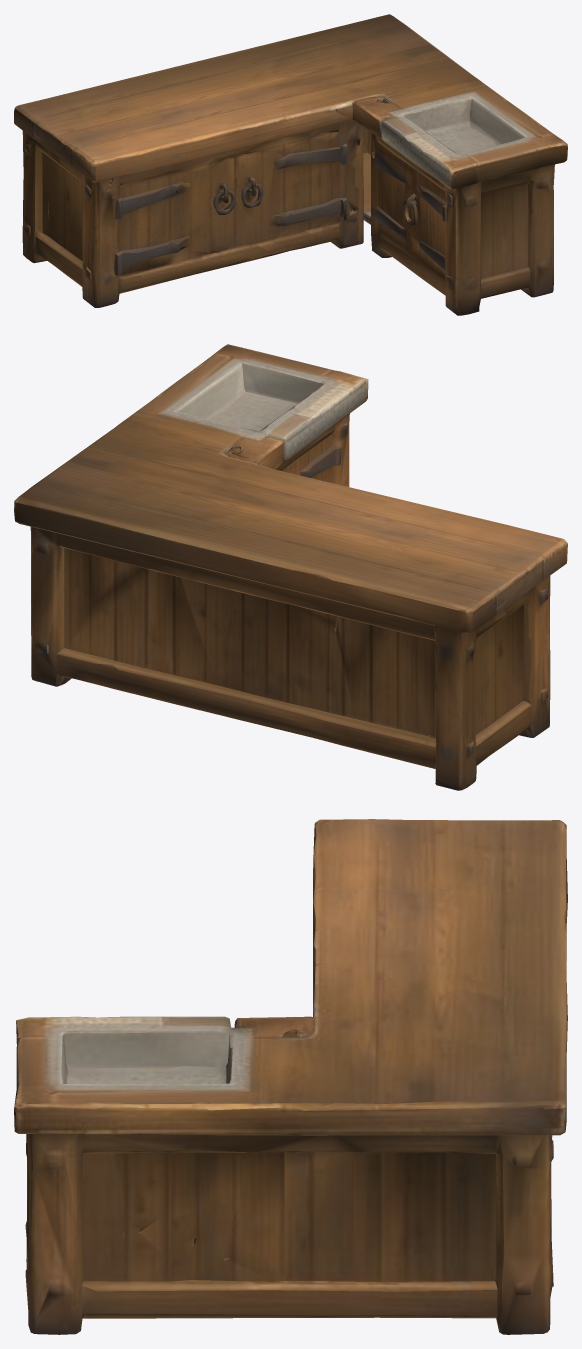
3 renders of one model, top to bottom at view 1: azimuth 30°, elevation 25°; view 2: azimuth 150°, elevation 25°; view 3: azimuth 270°, elevation 25°, orthographic. The views are drawn at different scales.
Visible parts, largest first — view 1: geometry_0; view 2: geometry_0; view 3: geometry_0.
Boxes of the visible parts, x1,y1,x2,y2 form: geometry_0: [14, 14, 567, 315]; geometry_0: [14, 344, 567, 790]; geometry_0: [14, 819, 567, 1334].
Size of the model in its own units: 2.4 by 0.9292 by 1.95.
Materials: 1 (1 with a texture image).
